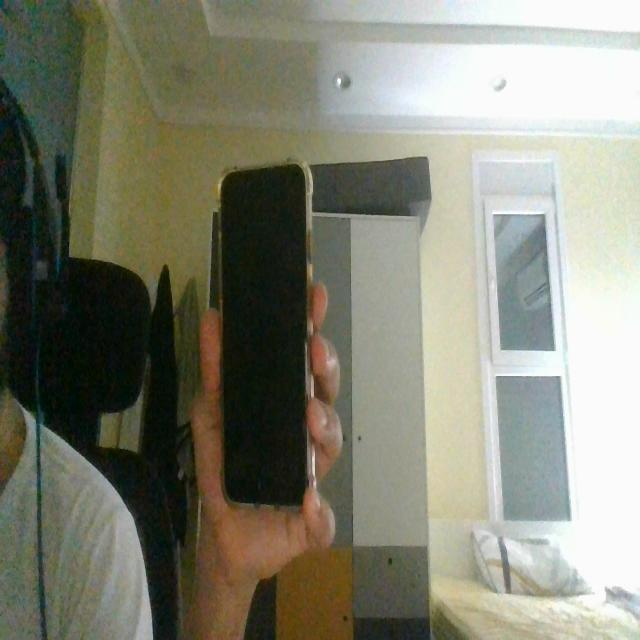Phone: (212, 157, 316, 516)
